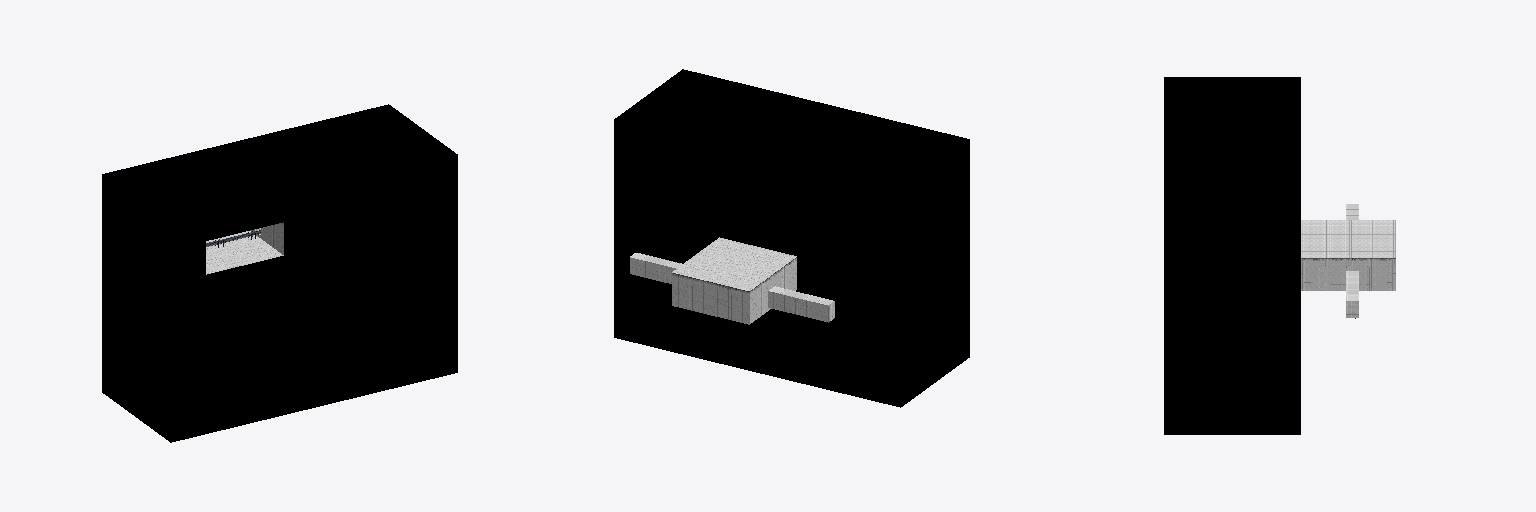
The picture shows the model from 3 angles: view 1: azimuth 30°, elevation 25°; view 2: azimuth 150°, elevation 25°; view 3: azimuth 270°, elevation 25°; orthographic projection.
Visible parts, largest first — view 1: Walls_Cube; view 2: Walls_Cube; view 3: Walls_Cube.
Part boxes in pixels (bbox=[...]): Walls_Cube: bbox=[102, 104, 457, 442]; Walls_Cube: bbox=[614, 69, 969, 407]; Walls_Cube: bbox=[1164, 77, 1395, 434].
Bounding box in the file's own units: 184 × 134 × 130.
7 materials, 7 textured.